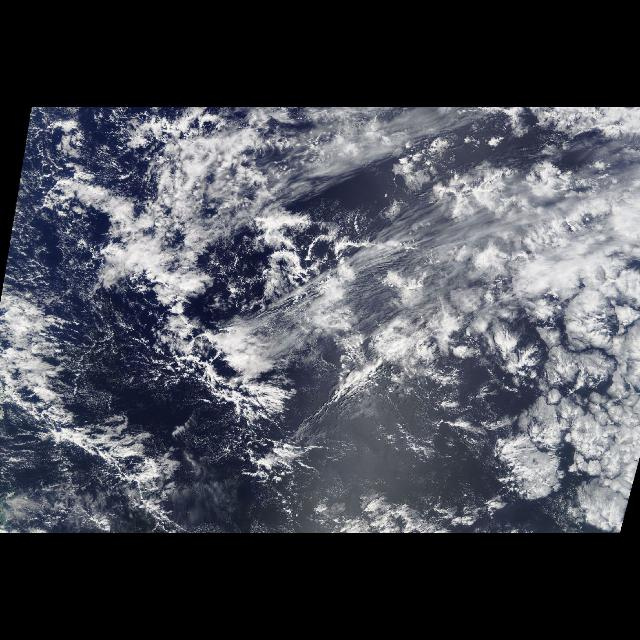Flower: (438, 150, 640, 482)
